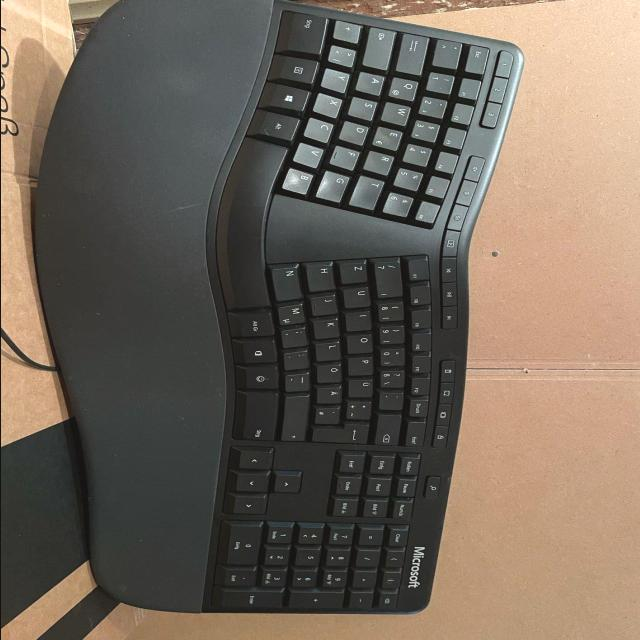0: (381, 346, 408, 365)
1: (427, 71, 457, 93)
2: (420, 95, 449, 117)
3: (412, 118, 442, 141)
4: (404, 142, 434, 165)
5: (394, 167, 425, 191)
6: (383, 191, 415, 217)
7: (375, 259, 405, 297)
8: (379, 300, 407, 321)
9: (380, 323, 408, 343)
a: (356, 70, 387, 94)
accent: (380, 390, 406, 408)
ae: (318, 385, 345, 402)
alt-left: (253, 109, 301, 142)
altgr-right: (230, 309, 276, 337)
b: (283, 166, 315, 194)
c: (305, 116, 335, 142)
caret: (434, 38, 464, 68)
comma: (282, 325, 310, 347)
d: (339, 120, 371, 145)
del: (376, 414, 404, 446)
e: (373, 126, 405, 150)
enter: (312, 423, 372, 443)
f: (330, 145, 362, 171)
g: (316, 170, 352, 202)
h: (307, 262, 335, 292)
hash: (315, 406, 343, 423)
i: (346, 310, 374, 330)
j: (312, 293, 340, 315)
k: (314, 317, 342, 337)
keyboard: (197, 0, 527, 622)
l: (316, 340, 343, 360)
less: (328, 44, 358, 66)
m: (279, 302, 307, 324)
minus: (286, 371, 312, 391)
n: (272, 265, 304, 300)
o: (348, 332, 376, 352)
oe: (317, 362, 344, 382)
p: (348, 354, 376, 374)
plus: (348, 399, 375, 419)
point: (284, 349, 311, 369)
q: (390, 76, 421, 100)
r: (364, 149, 396, 175)
s: (349, 96, 379, 120)
shift-left: (334, 18, 364, 42)
shift-lock: (364, 25, 398, 69)
shift-right: (282, 395, 311, 440)
space: (220, 137, 282, 309)
ss: (381, 368, 408, 386)
strg-left: (280, 8, 329, 54)
strg-right: (236, 391, 280, 443)
t: (349, 175, 387, 211)
tab: (397, 31, 431, 74)
u: (344, 285, 373, 307)
ue: (348, 377, 376, 396)
v: (294, 140, 326, 168)
w: (382, 101, 414, 125)
x: (313, 92, 344, 118)
y: (322, 68, 352, 92)
z: (339, 262, 368, 284)
